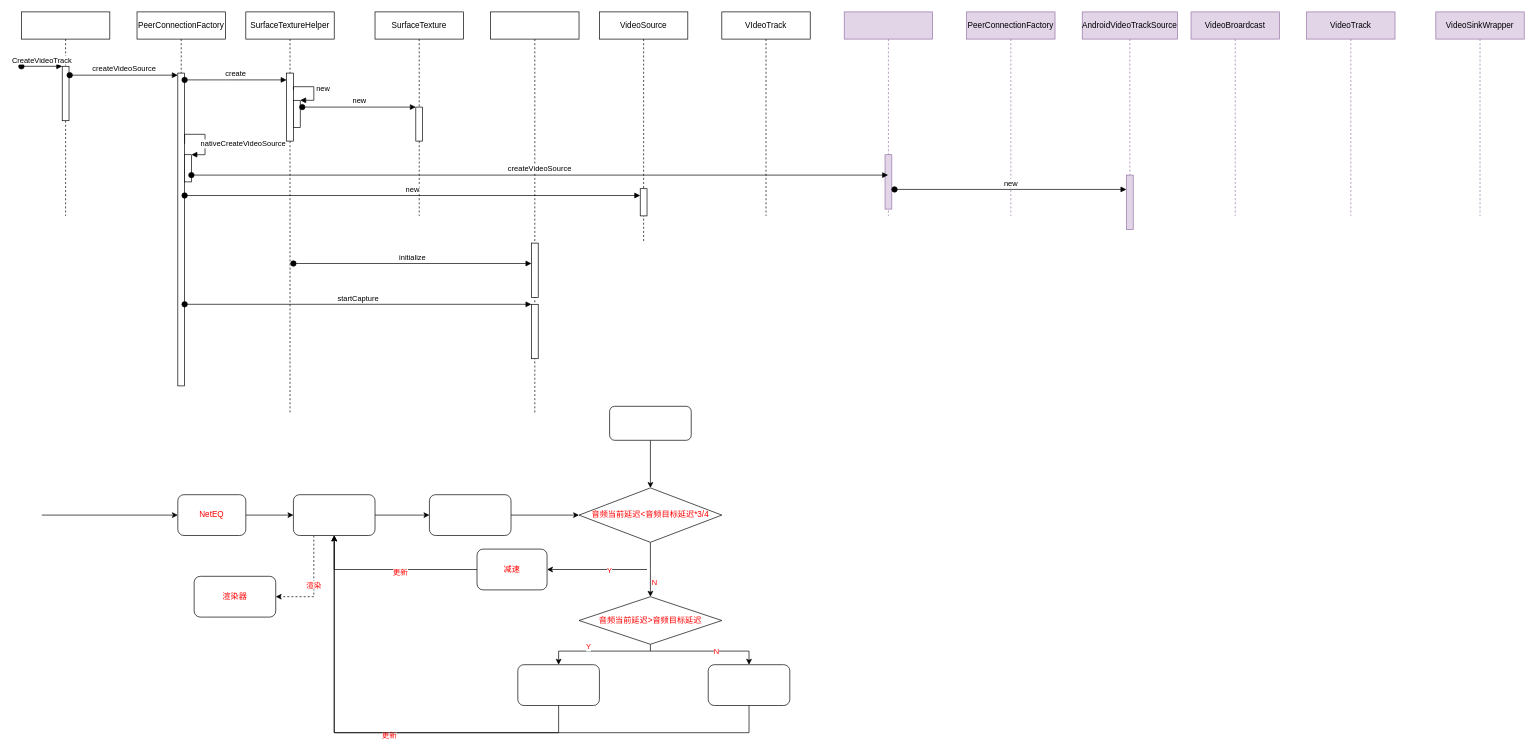
This 1536x751 diagram has some shape labels left out. Each missing label, with the box of its shape:
PeerConnectionClient: (21, 11, 110, 216)
Video.cc: (844, 11, 933, 216)
VideoCapture: (490, 11, 579, 413)
加速: (517, 664, 599, 706)
正常: (708, 664, 790, 706)
音频当前延迟: (429, 494, 511, 536)
音频目标延迟: (609, 406, 691, 440)
音频缓存: (293, 494, 375, 536)
